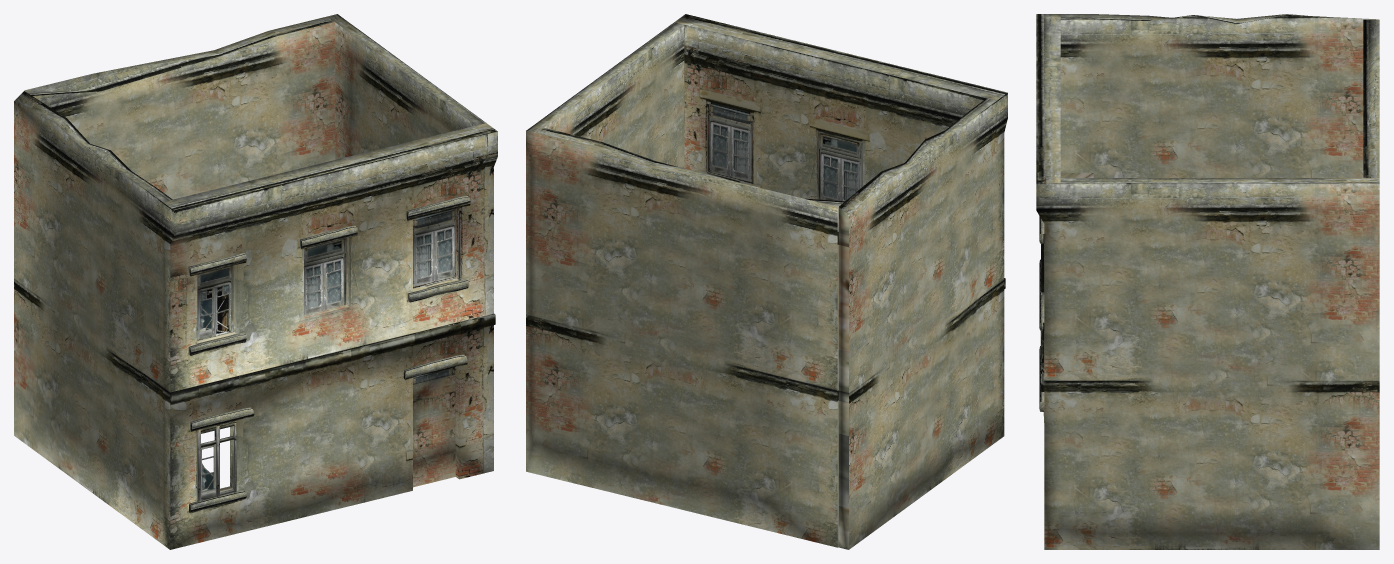
The model's file is war_torn10.obj.
3 views of the same model, side by side, from view 1: azimuth 30°, elevation 25°; view 2: azimuth 150°, elevation 25°; view 3: azimuth 270°, elevation 25° (orthographic). The views are drawn at different scales.
Visible parts, largest first — view 1: worn_torn10; view 2: worn_torn10; view 3: worn_torn10.
Part boxes in pixels (x1,y1,x2,y2): worn_torn10: (14,14,497,549); worn_torn10: (526,14,1007,549); worn_torn10: (1036,14,1379,549).
Size of the model in its own units: 278 by 282 by 237.
Materials: 1 (1 with a texture image).
